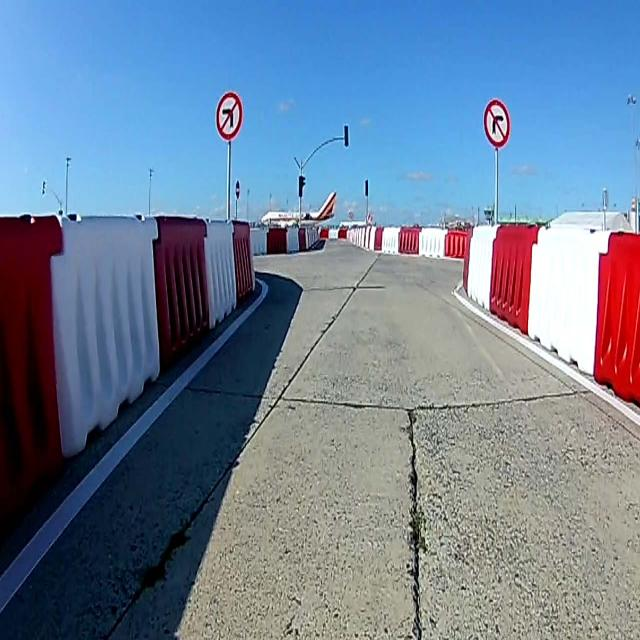sagadonulmez: (484, 100, 510, 146)
soladonulmez: (216, 90, 244, 138)
